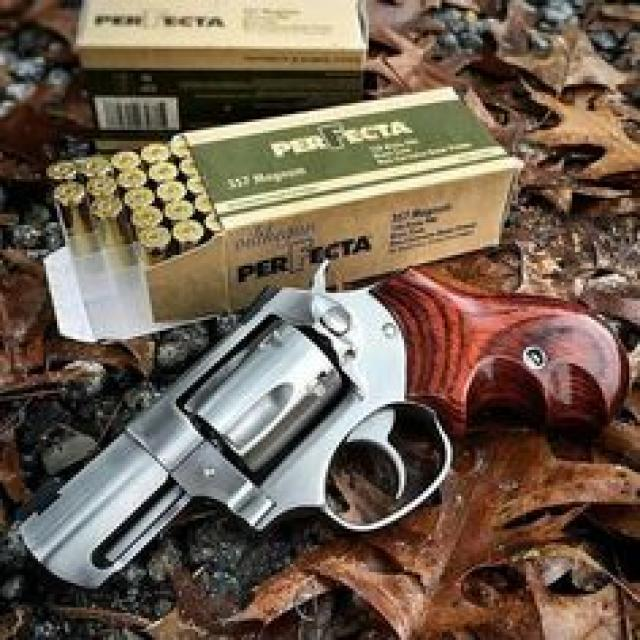revolver: (6, 268, 638, 599)
